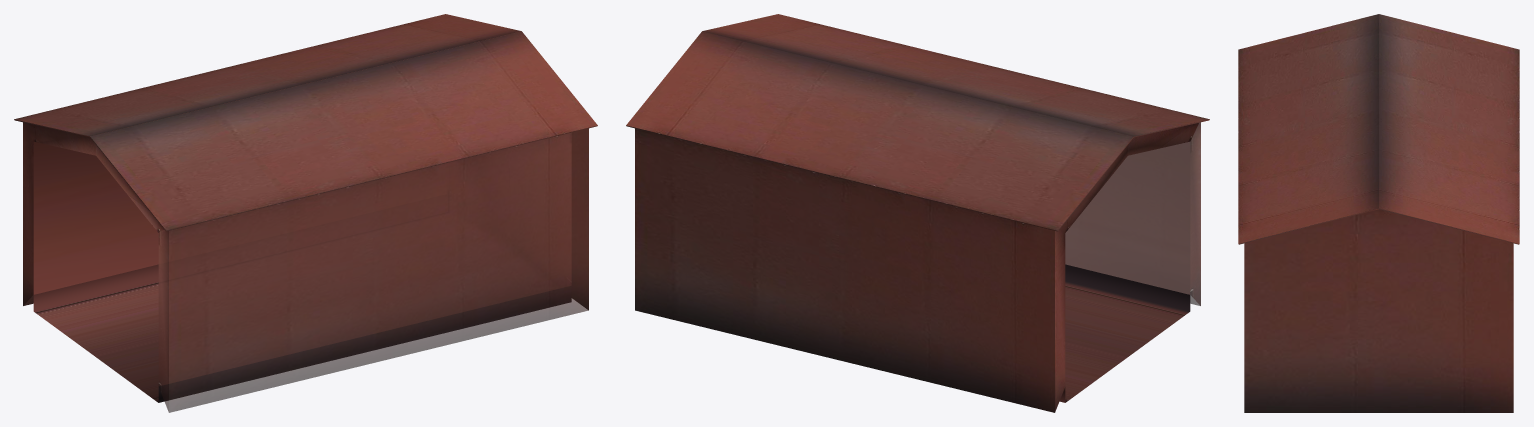
The model's file is sibir_garaz3.fbx.
3 renders of one model, left to right at view 1: azimuth 30°, elevation 25°; view 2: azimuth 150°, elevation 25°; view 3: azimuth 270°, elevation 25°, orthographic. The views are drawn at different scales.
Visible parts, largest first — view 1: garage; view 2: garage; view 3: garage.
Part boxes in pixels (bbox=[...]): garage: bbox=[14, 14, 597, 412]; garage: bbox=[626, 14, 1209, 412]; garage: bbox=[1238, 14, 1519, 412].
Bounding box in the file's own units: 4.75 × 2.36 × 2.9.
2 materials, 2 textured.
